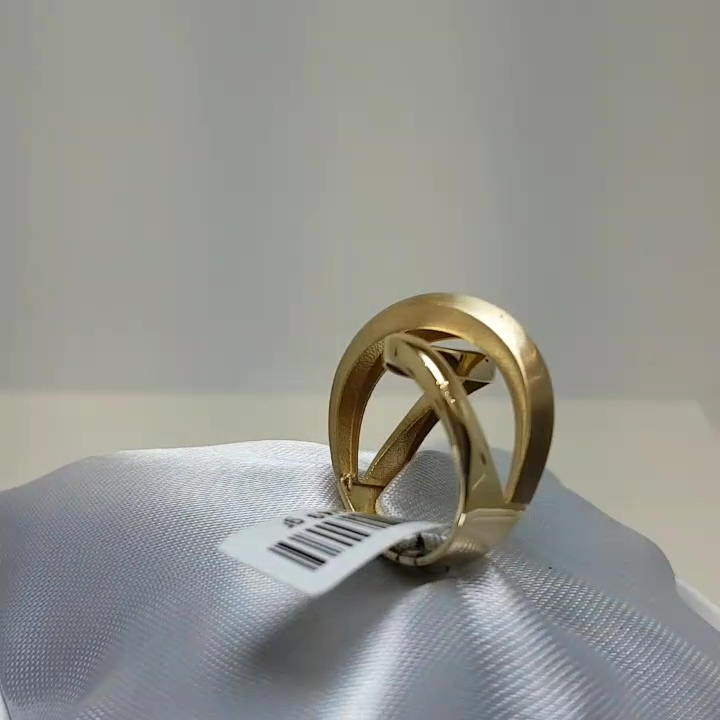Ring 3: (310, 279, 592, 584)
